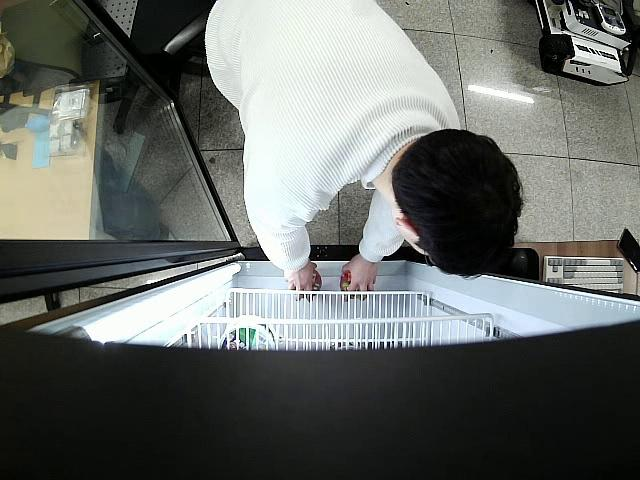00_hand: (342, 255, 378, 301), (283, 262, 321, 302)
